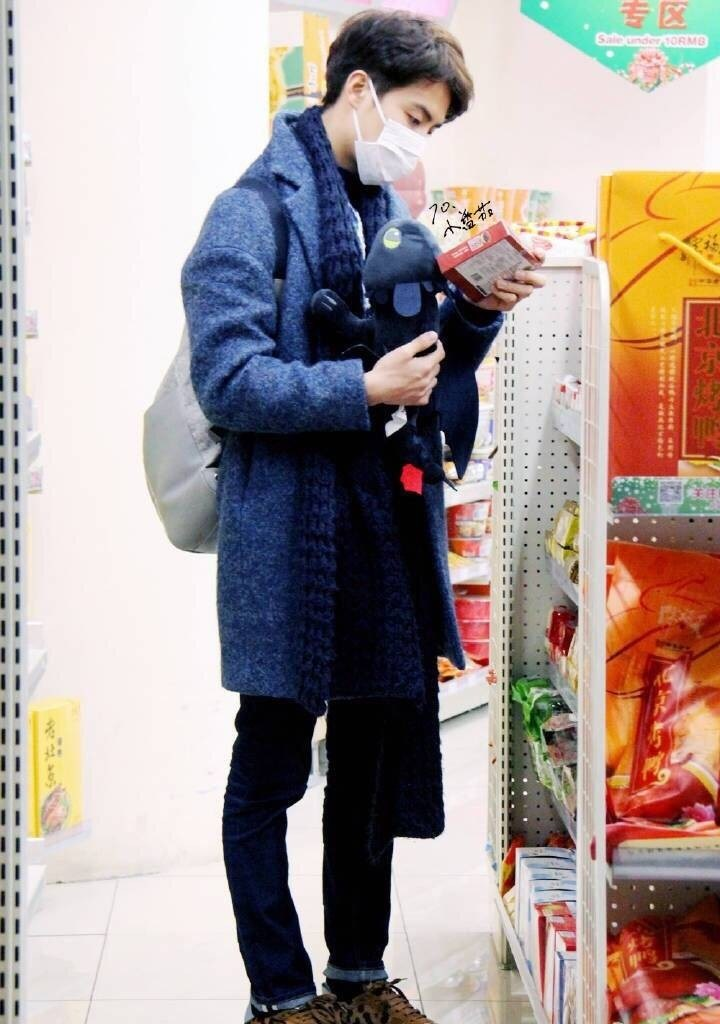face_mask: (354, 74, 434, 184)
